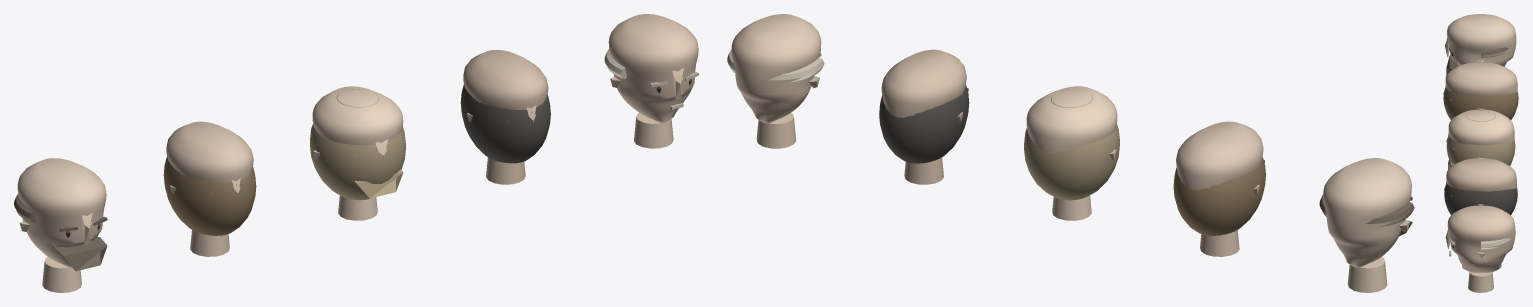
The model's file is tls_chr_021_heads_male_v001.fbx.
3 views of the same model, side by side, from view 1: azimuth 30°, elevation 25°; view 2: azimuth 150°, elevation 25°; view 3: azimuth 270°, elevation 25° (orthographic). The views are drawn at different scales.
Parts seen in each view (by area): view 1: Head_M3, Head_M2, Head_M4, Head_M1, Head_M5; view 2: Head_M3, Head_M2, Head_M4, Head_M5, Head_M1; view 3: Head_M5, Head_M2, Head_M4, Head_M3, Head_M1.
Boxes of the visible parts, x1,y1,x2,y2 form: Head_M3: [310, 86, 405, 220]; Head_M2: [163, 121, 256, 256]; Head_M4: [460, 50, 550, 184]; Head_M1: [14, 158, 107, 292]; Head_M5: [604, 14, 698, 148]; Head_M3: [1024, 86, 1119, 220]; Head_M2: [1173, 121, 1265, 256]; Head_M4: [879, 49, 969, 184]; Head_M5: [727, 14, 824, 148]; Head_M1: [1319, 158, 1414, 292]; Head_M5: [1445, 205, 1515, 292]; Head_M2: [1443, 62, 1518, 119]; Head_M4: [1444, 158, 1517, 215]; Head_M3: [1446, 109, 1515, 169]; Head_M1: [1445, 14, 1516, 74].
Bounding box in the file's own units: 1.37 × 0.1995 × 0.2218.
